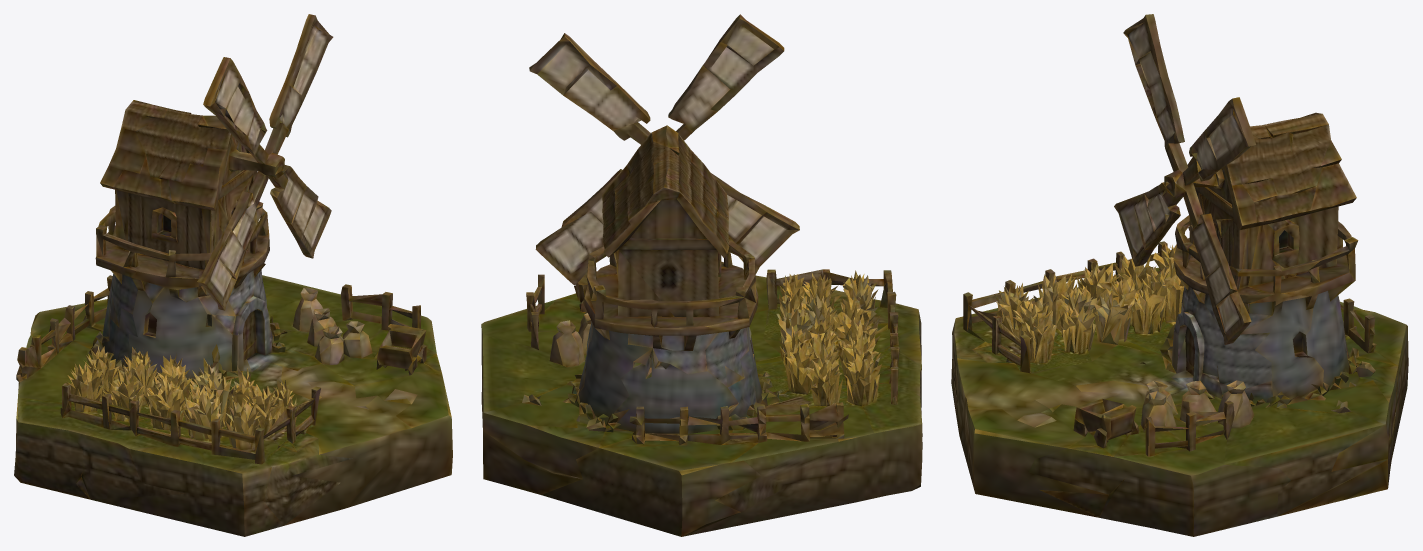
File: mill.glb
3 views of the same model, side by side, from view 1: azimuth 30°, elevation 25°; view 2: azimuth 150°, elevation 25°; view 3: azimuth 270°, elevation 25° (orthographic). The views are drawn at different scales.
Size of the model in its own units: 2.29 by 2.05 by 2.08.
Materials: 1 (1 with a texture image).
